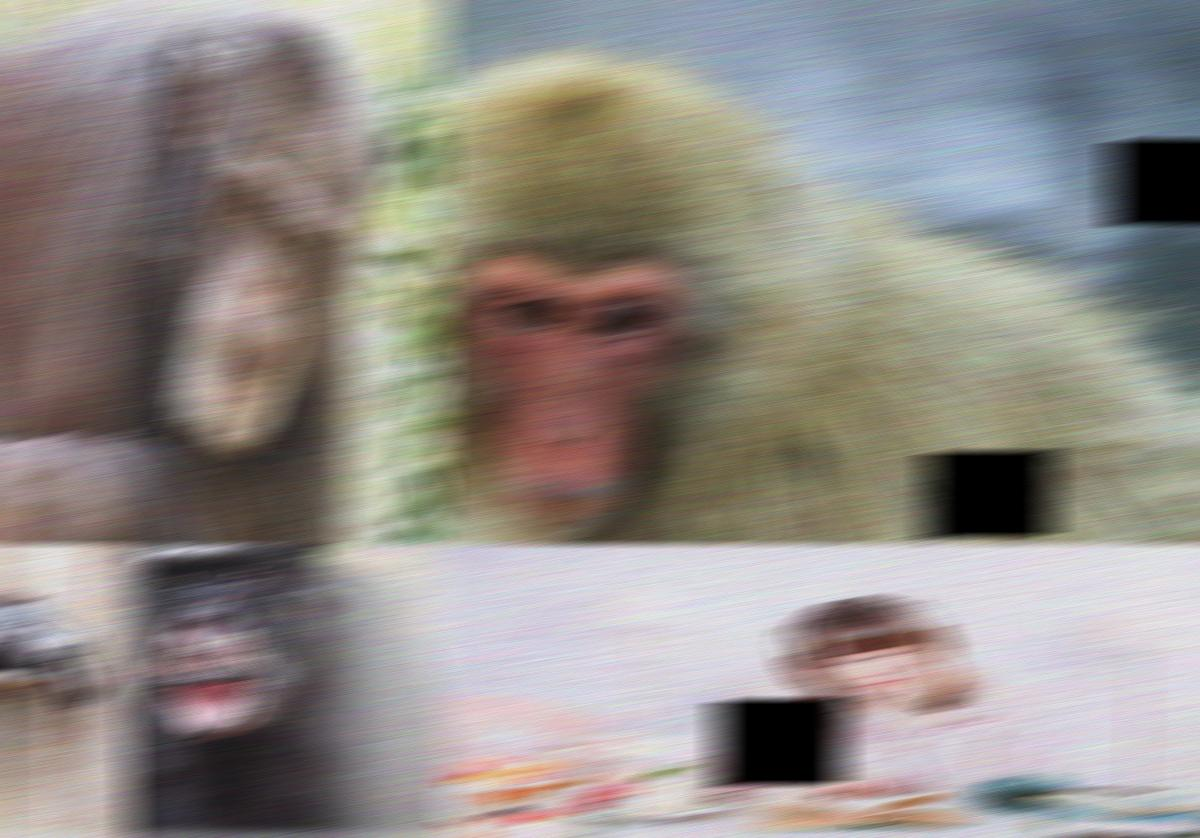Macaca fuscata: (437, 41, 1200, 543)
chimpanzee: (0, 4, 353, 543), (0, 545, 450, 837)
human: (665, 595, 1072, 798)
